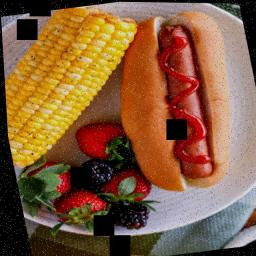hotdog: (98, 1, 252, 201)
